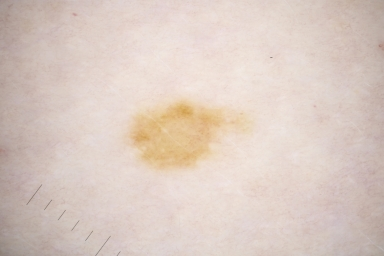melanoma: (127, 101, 220, 169)
